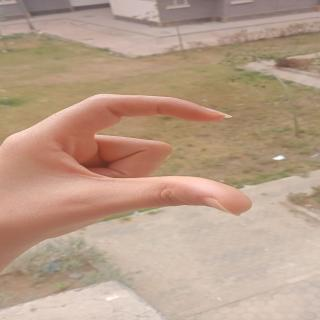DELL: (0, 74, 261, 228)
